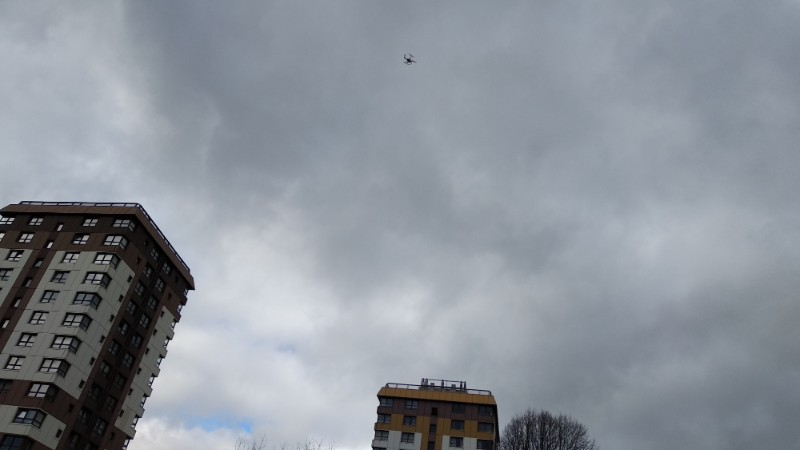drone: (403, 53, 416, 65)
